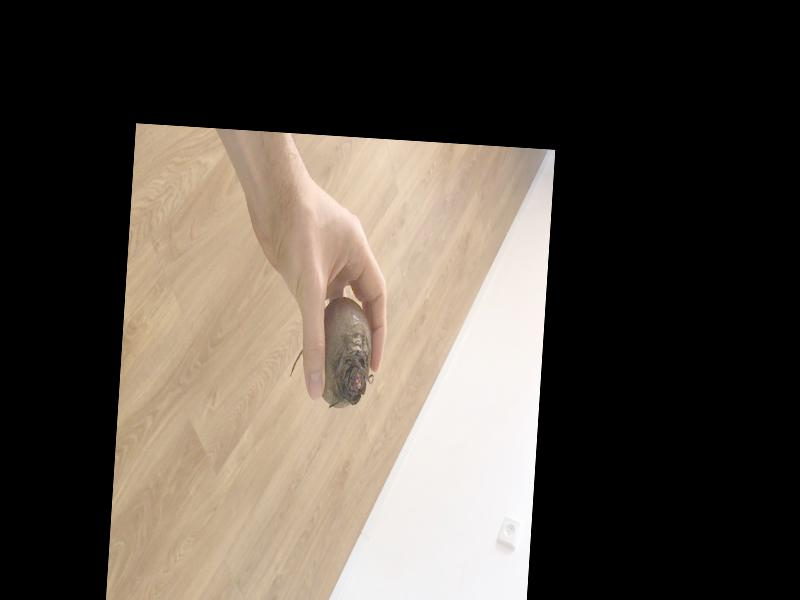Beet: (288, 295, 376, 411)
